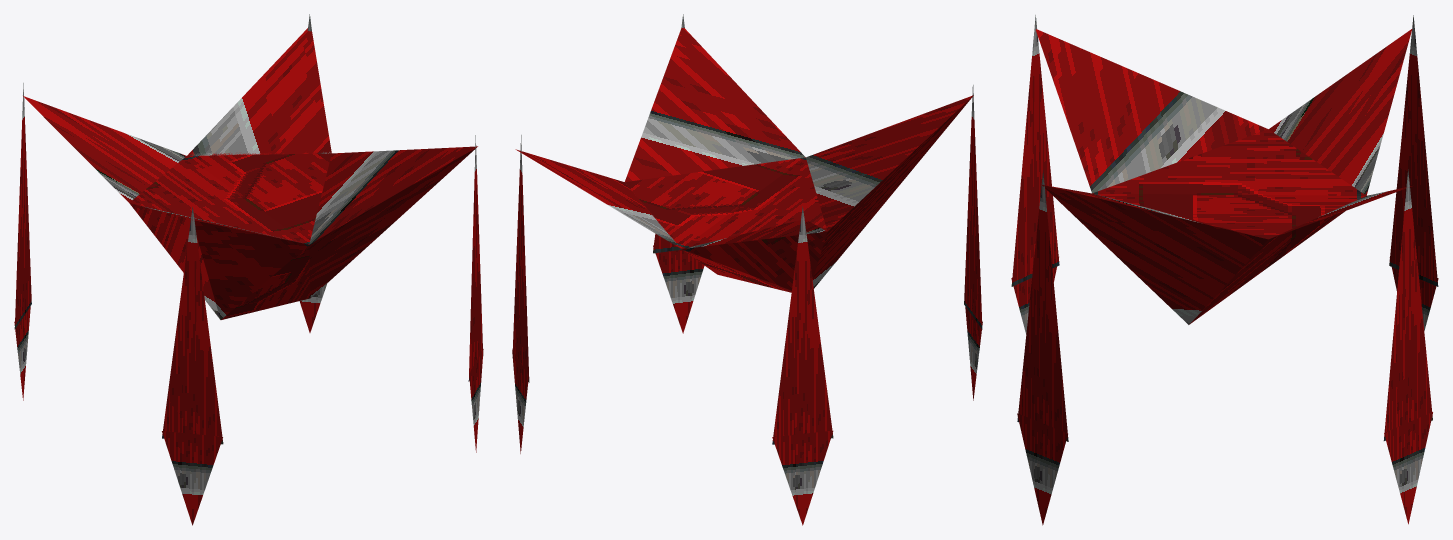
The model's file is model_005_robot_noname.glb.
3 renders of one model, left to right at view 1: azimuth 30°, elevation 25°; view 2: azimuth 150°, elevation 25°; view 3: azimuth 270°, elevation 25°, orthographic. The views are drawn at different scales.
Visible parts, largest first — view 1: model_005; view 2: model_005; view 3: model_005.
Part boxes in pixels (x1,y1,x2,y2): model_005: (14,14,483,525); model_005: (512,14,982,525); model_005: (1011,15,1438,525).
Size of the model in its own units: 8.82 by 8.28 by 9.
2 materials, 2 textured.
